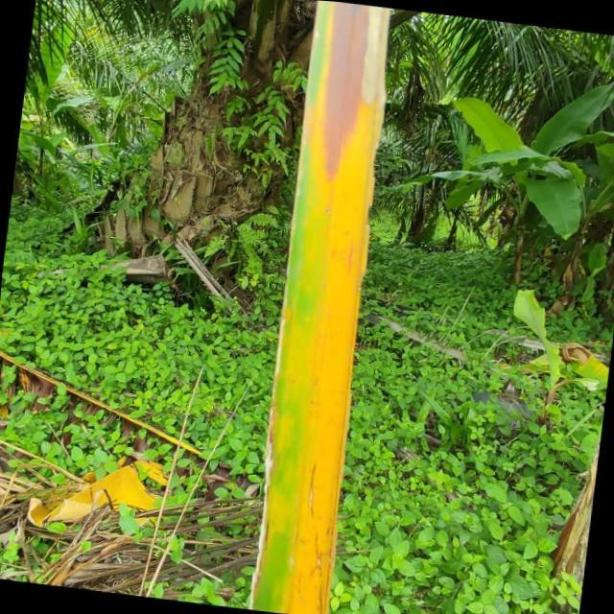Megnesium: (249, 0, 392, 614)
